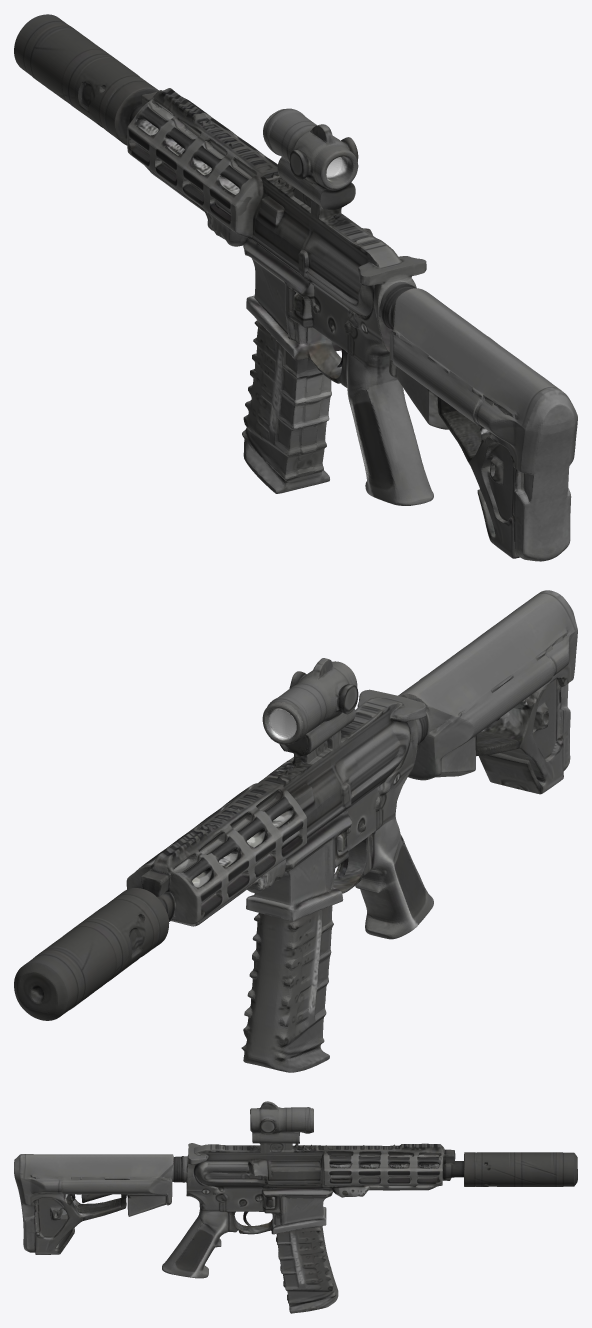
The model's file is RAPTOR.glb.
3 views of the same model, one above another, from view 1: azimuth 30°, elevation 25°; view 2: azimuth 150°, elevation 25°; view 3: azimuth 270°, elevation 25° (orthographic). The views are drawn at different scales.
Visible parts, largest first — view 1: tripo_node_1a70ec95-1041-4ef0-a43f-869a60d99c11; view 2: tripo_node_1a70ec95-1041-4ef0-a43f-869a60d99c11; view 3: tripo_node_1a70ec95-1041-4ef0-a43f-869a60d99c11.
Boxes of the visible parts, box(x1,y1,x2,y2) form: tripo_node_1a70ec95-1041-4ef0-a43f-869a60d99c11: box(14, 14, 577, 561); tripo_node_1a70ec95-1041-4ef0-a43f-869a60d99c11: box(14, 590, 577, 1072); tripo_node_1a70ec95-1041-4ef0-a43f-869a60d99c11: box(14, 1101, 577, 1313).
Bounding box in the file's own units: 0.0904 × 0.3999 × 1.
1 material, 1 textured.
